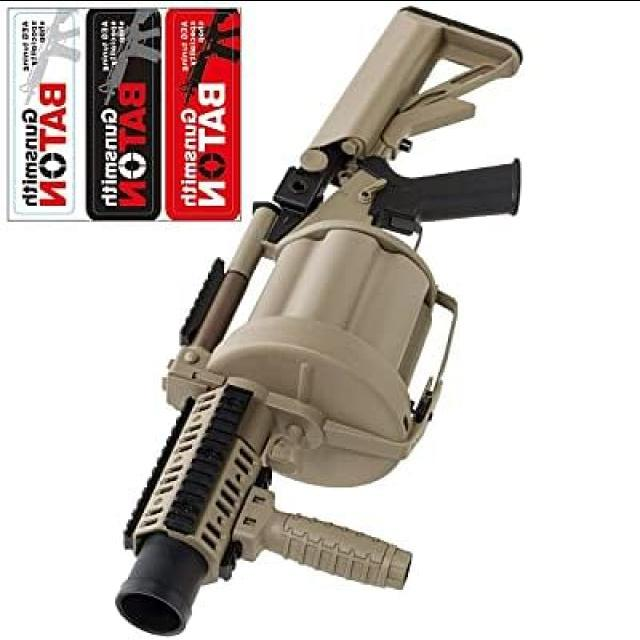rocket launcher: (7, 22, 640, 607)
